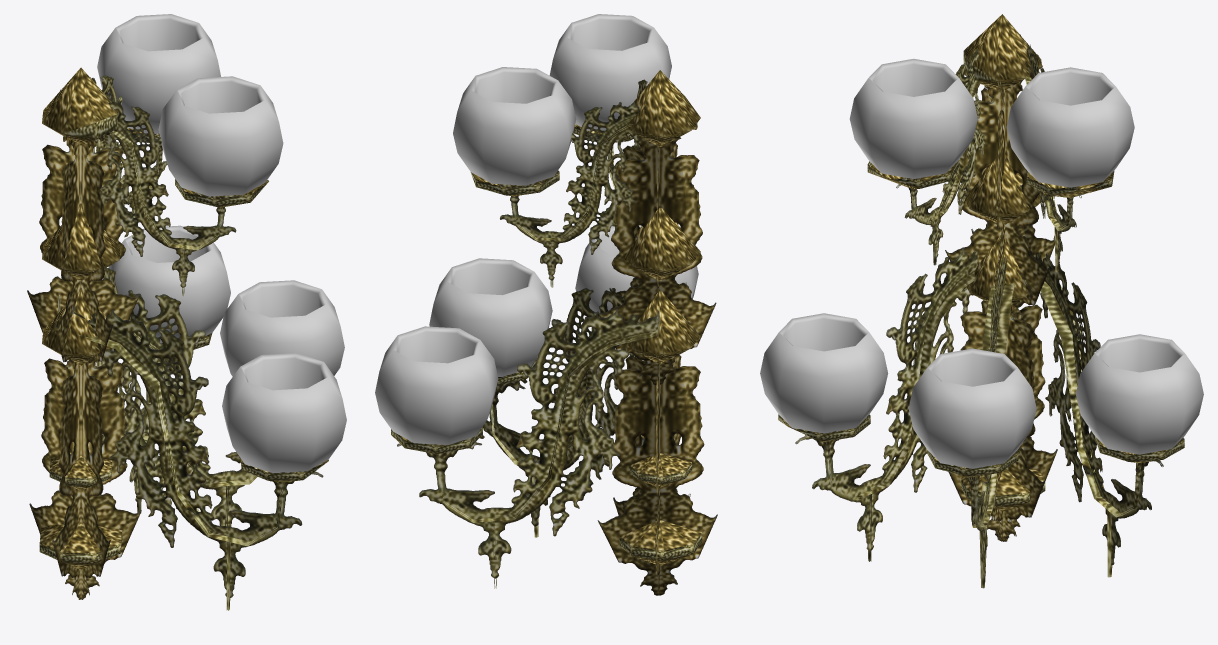
File: Gaslight_Corner.fbx
3 renders of one model, left to right at view 1: azimuth 30°, elevation 25°; view 2: azimuth 150°, elevation 25°; view 3: azimuth 270°, elevation 25°, orthographic.
Parts seen in each view (by area): view 1: Gaslight_Corner_LOD0; view 2: Gaslight_Corner_LOD0; view 3: Gaslight_Corner_LOD0.
Part boxes in pixels (left/top/right/bottom): Gaslight_Corner_LOD0: left=27, top=14, right=346, bottom=610; Gaslight_Corner_LOD0: left=375, top=14, right=717, bottom=595; Gaslight_Corner_LOD0: left=760, top=14, right=1203, bottom=588.
Size of what is drawn, in the model's own units: 157 by 270 by 205.
